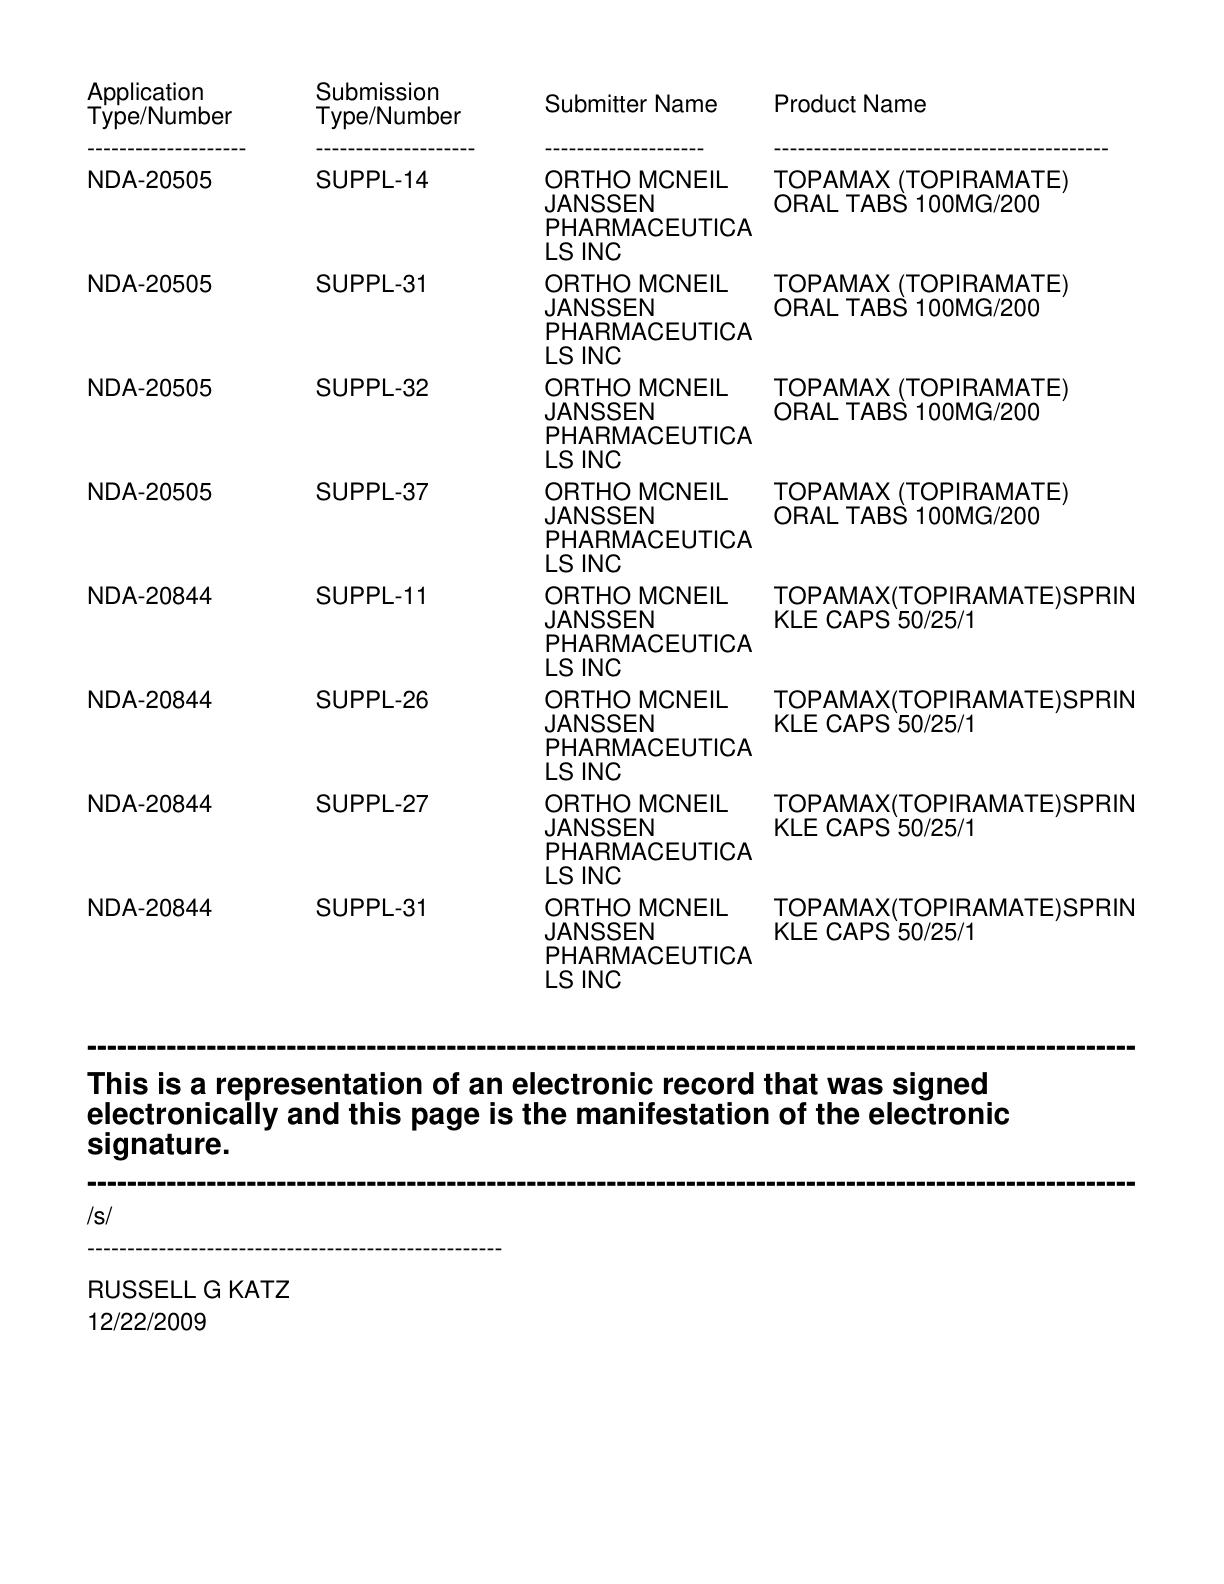nolines: (78, 75, 1139, 993)
